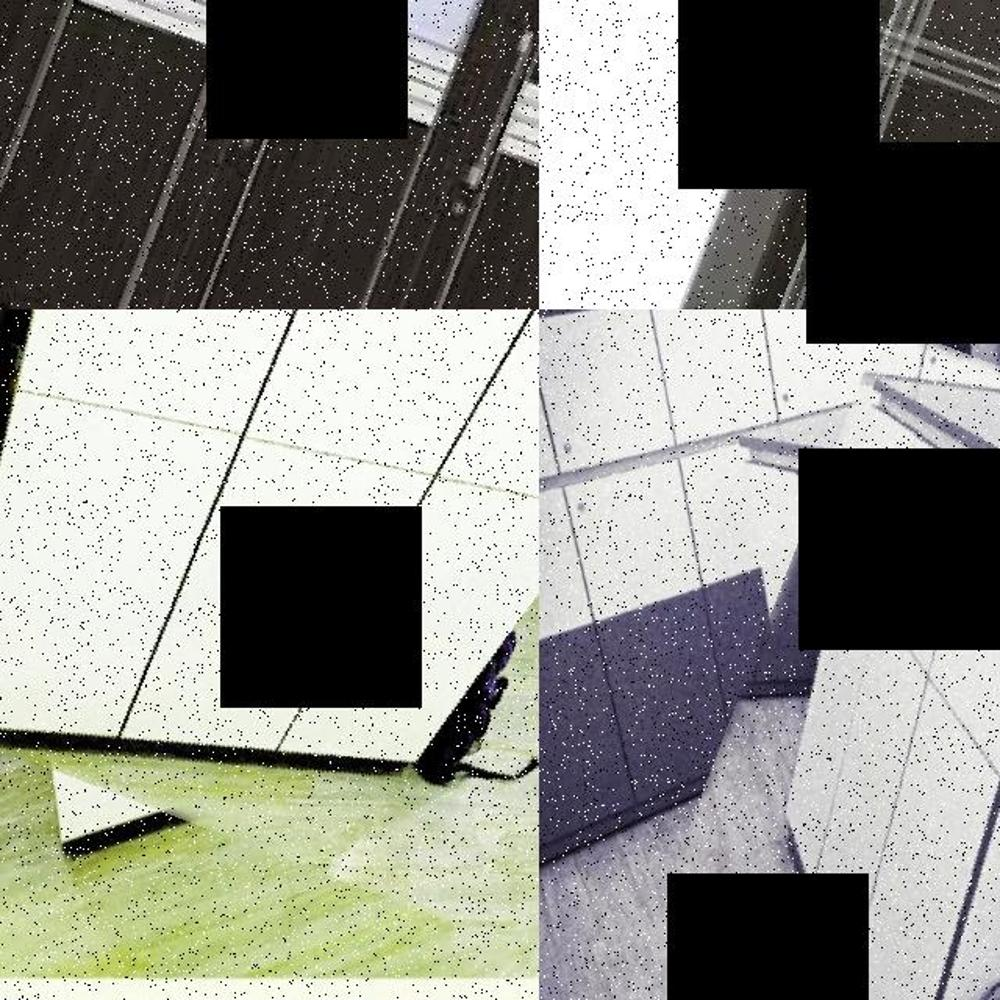cabinet: (0, 309, 539, 762), (661, 350, 1000, 1000), (0, 0, 539, 309), (698, 0, 1000, 309)
